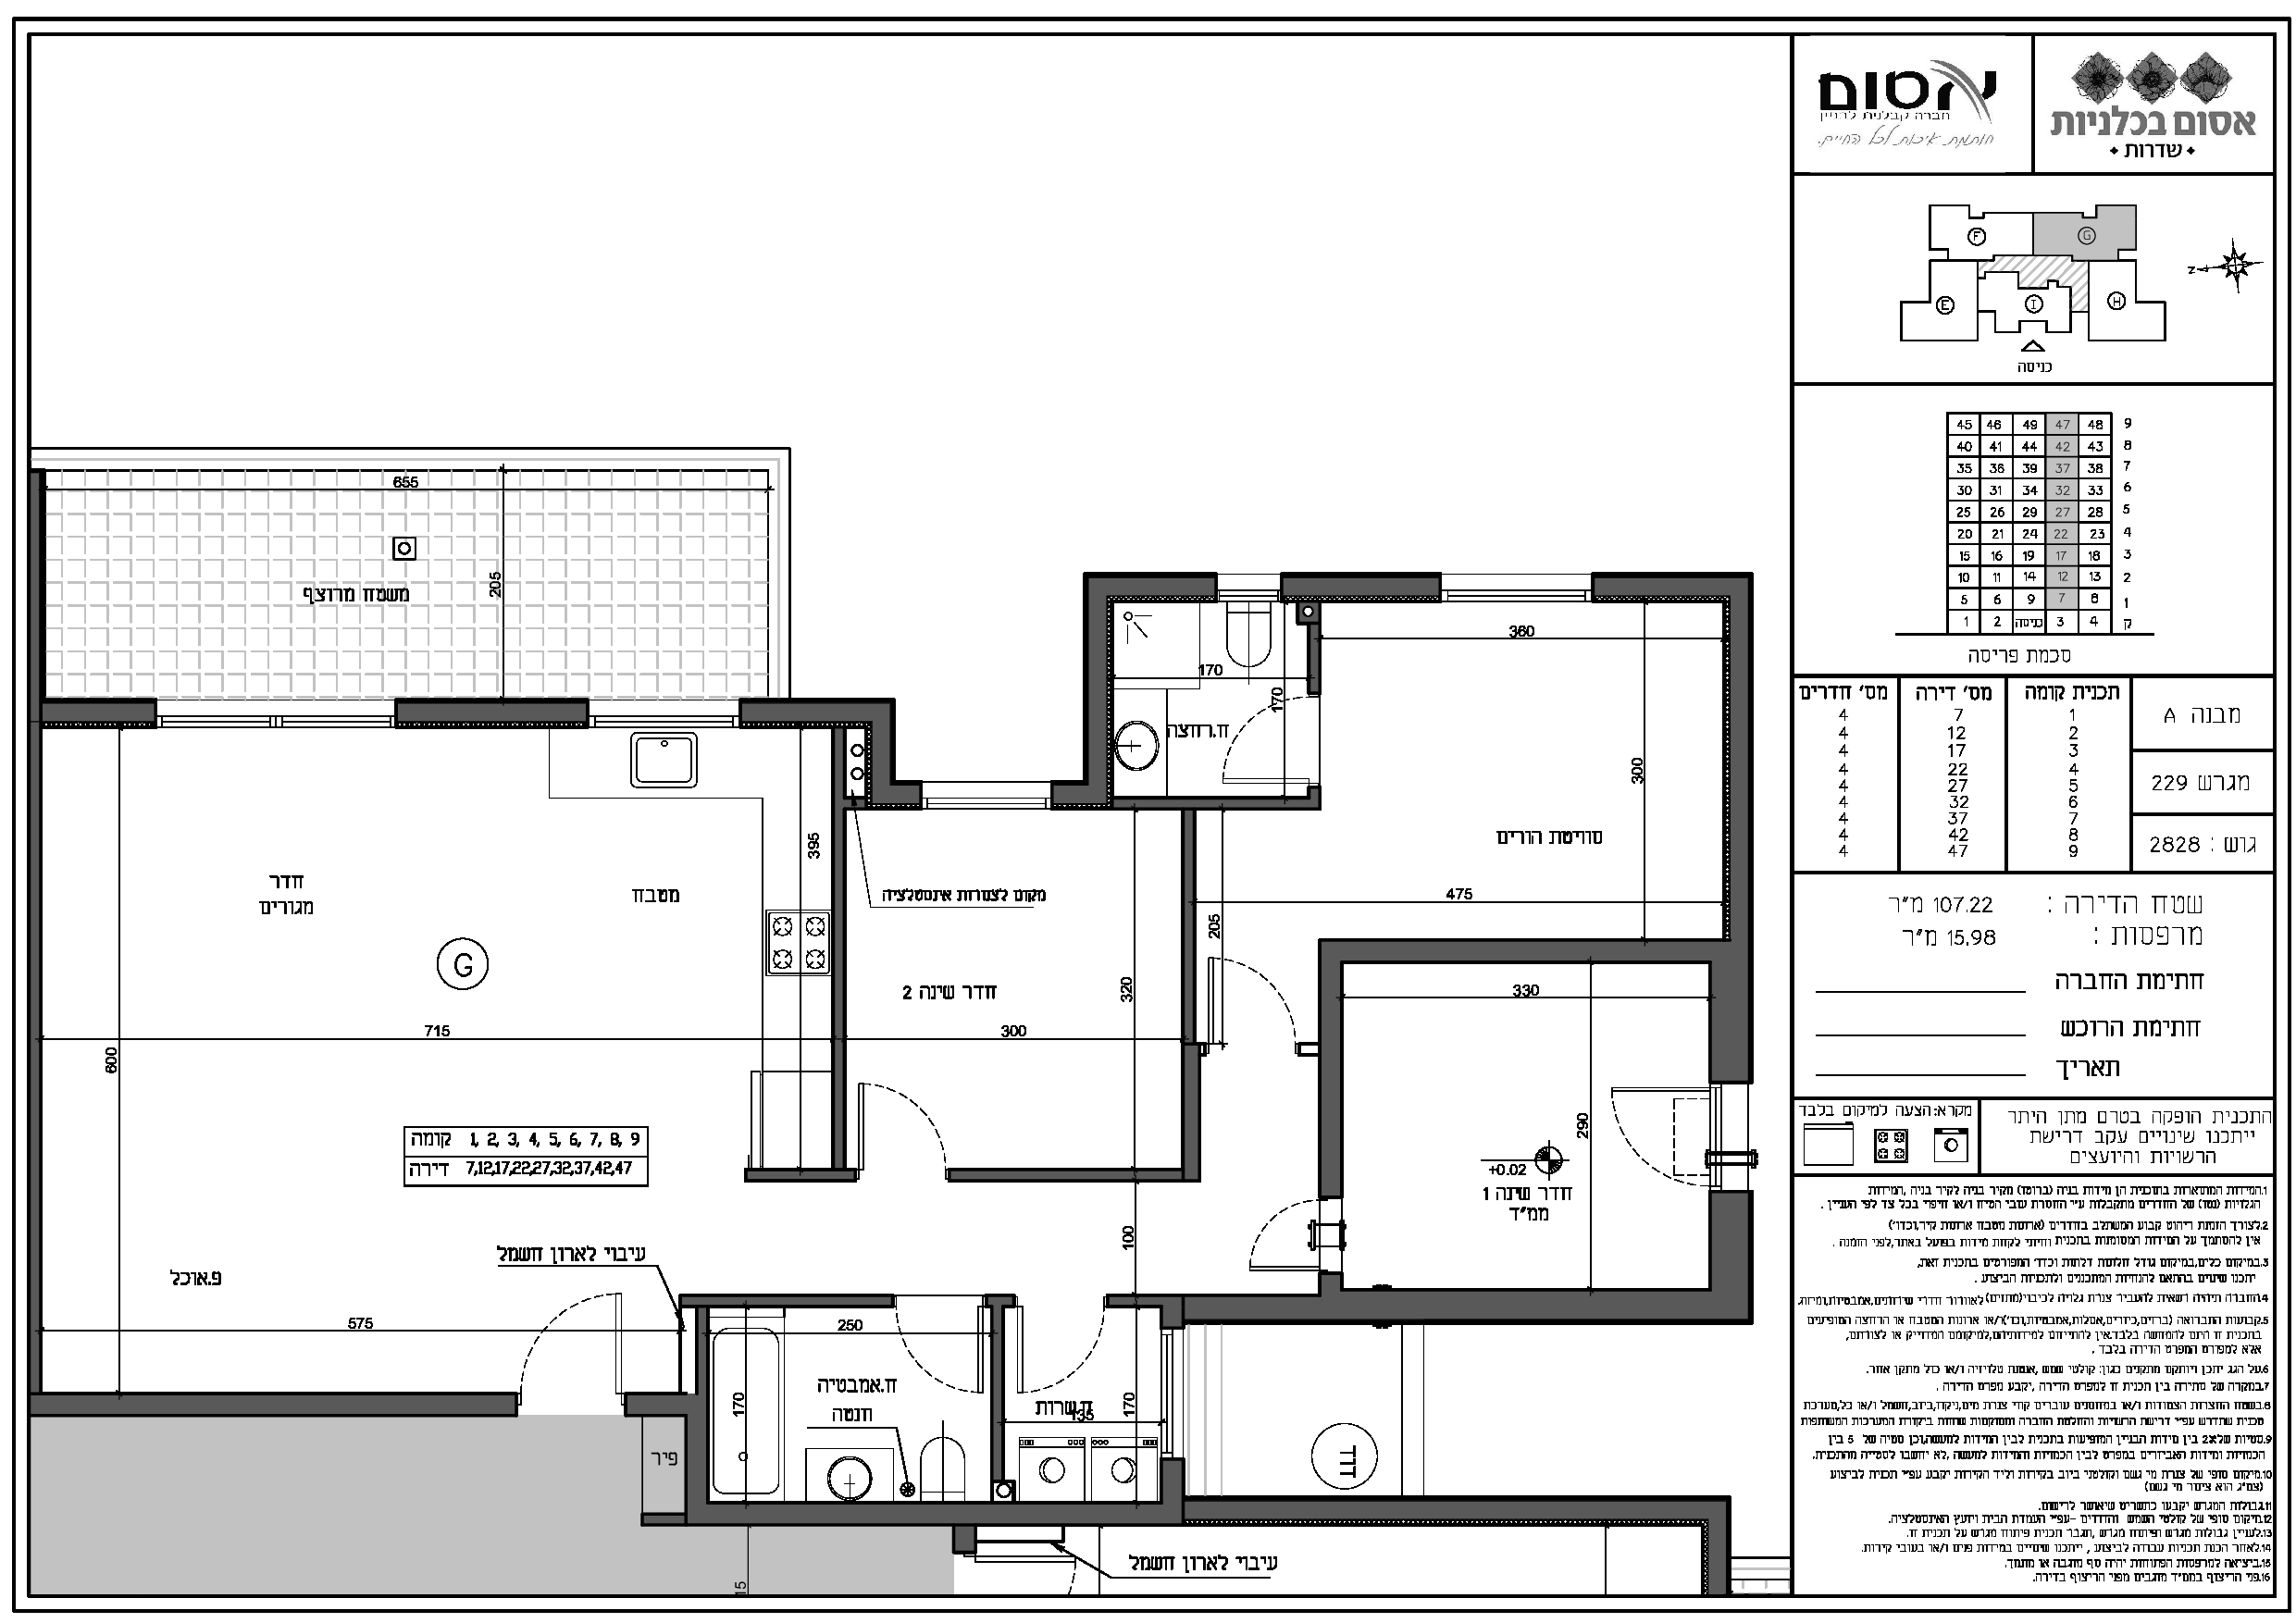door: (1607, 1066, 1727, 1196), (1191, 936, 1302, 1066), (513, 1280, 632, 1384), (852, 1068, 957, 1168), (1008, 1307, 1108, 1409), (889, 1312, 989, 1409), (1238, 1187, 1318, 1286)
room: (1307, 573, 1755, 963), (1319, 940, 1755, 1323), (831, 797, 1203, 1182), (692, 1295, 1007, 1526)
wall: (1182, 1493, 1732, 1530), (1723, 573, 1758, 1084), (1182, 1293, 1753, 1323), (33, 1389, 520, 1419), (1082, 573, 1114, 810)
window: (155, 697, 397, 731), (1175, 564, 1337, 613), (1437, 569, 1599, 617), (585, 697, 745, 731), (1159, 1326, 1189, 1465), (921, 780, 1054, 810)
